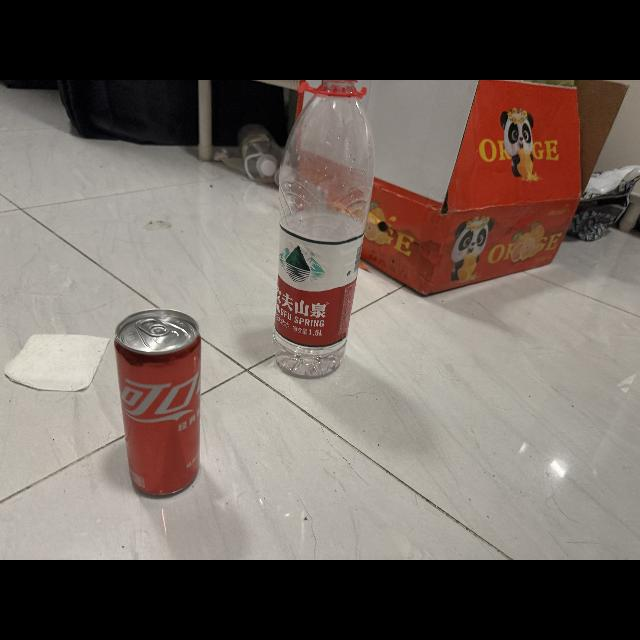Cola: (106, 304, 206, 502)
